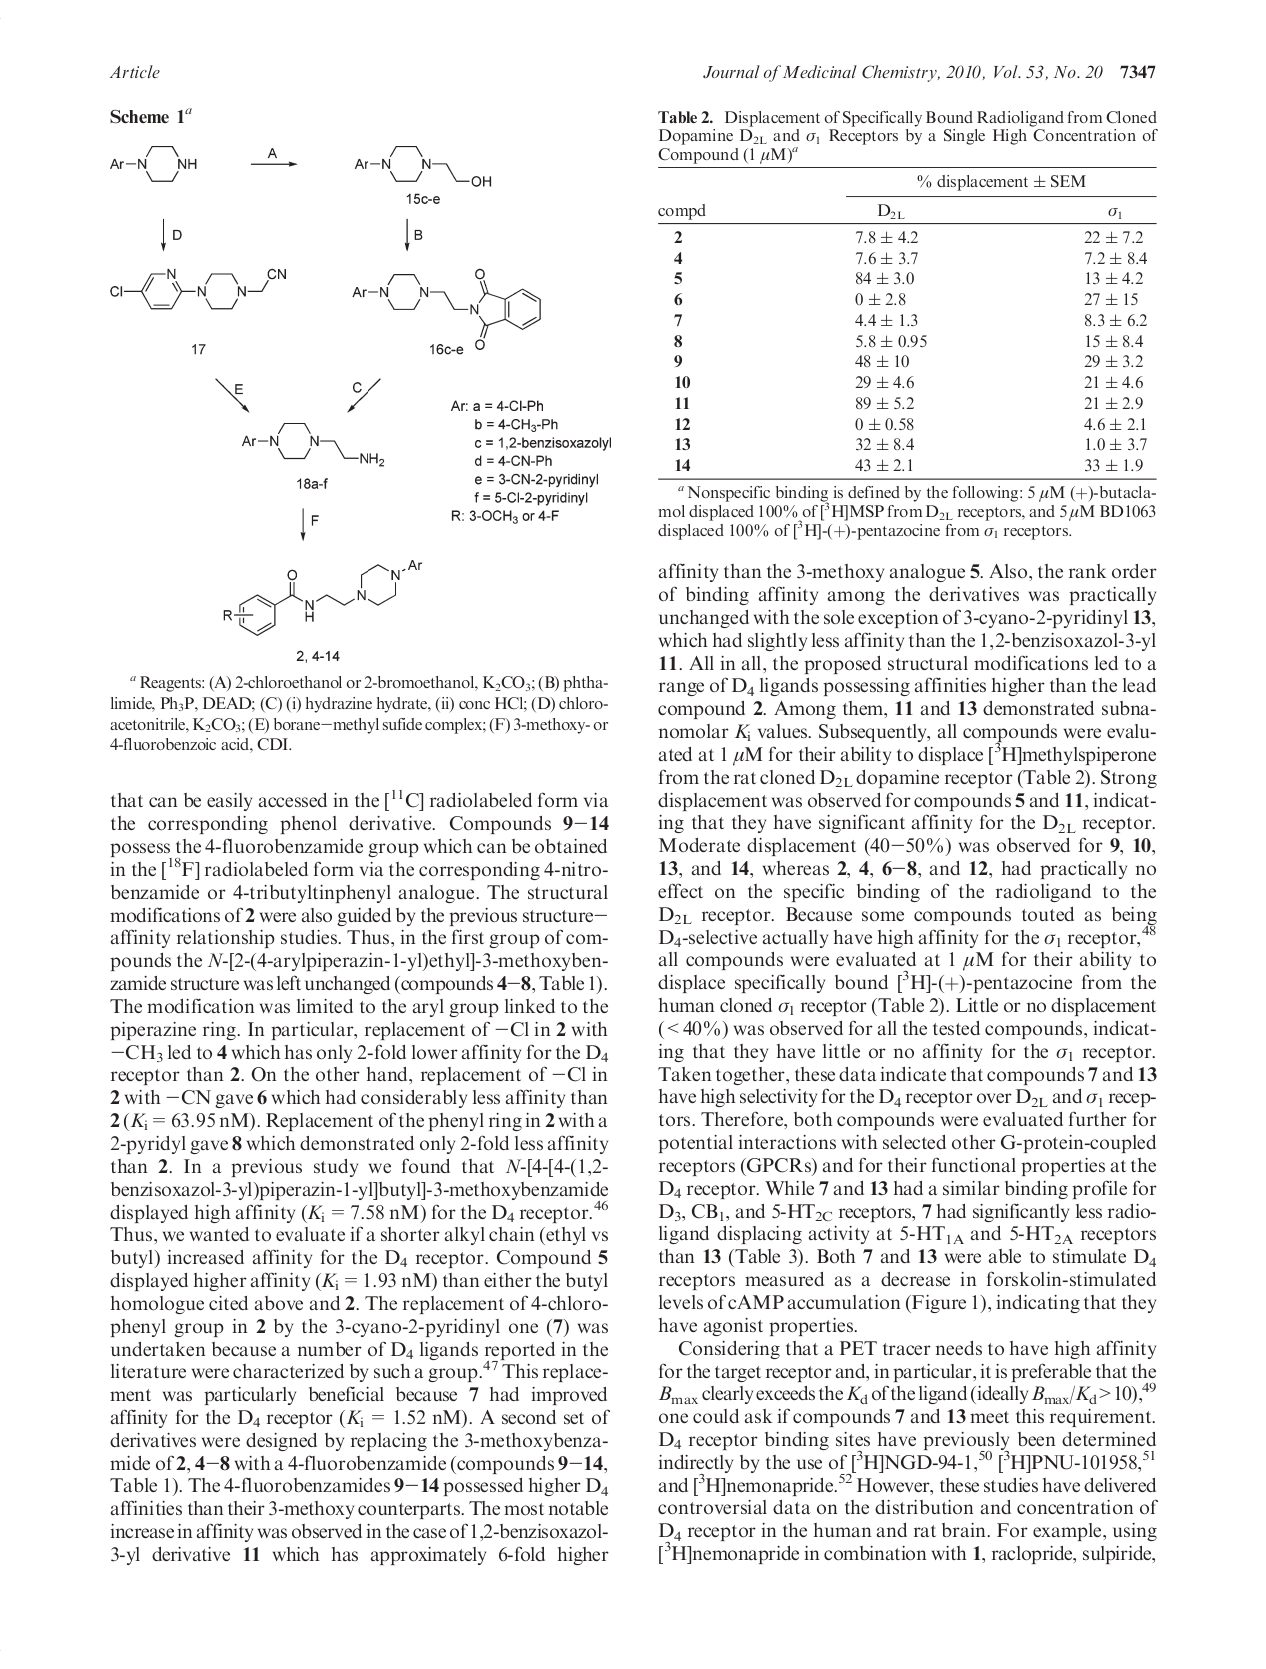exist_molecular: (219, 556, 426, 638), (351, 265, 543, 352), (109, 265, 289, 310), (242, 419, 386, 469), (355, 142, 495, 190), (108, 144, 198, 184)
